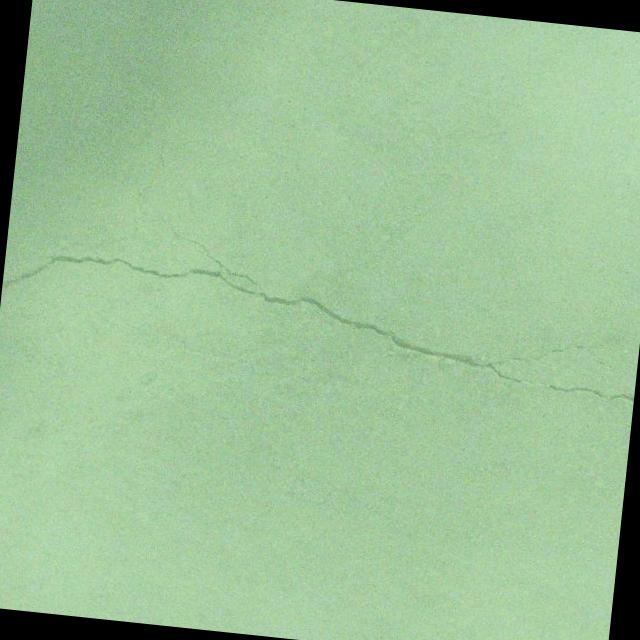crack: (0, 160, 640, 403), (59, 218, 144, 258), (136, 58, 162, 116), (156, 136, 170, 173), (598, 342, 639, 352), (163, 28, 170, 48)
